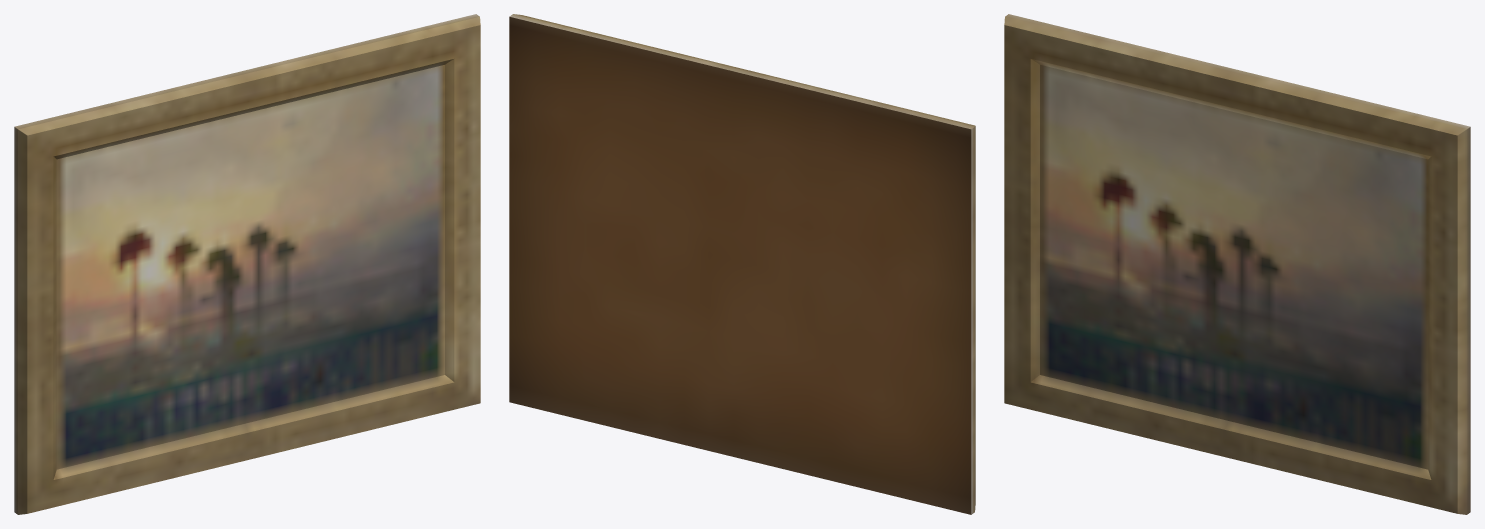
The model's file is Painting_Large_B.FBX.
3 views of the same model, side by side, from view 1: azimuth 30°, elevation 25°; view 2: azimuth 150°, elevation 25°; view 3: azimuth 330°, elevation 25° (orthographic).
Parts seen in each view (by area): view 1: Painting_Large_B; view 2: Painting_Large_B; view 3: Painting_Large_B.
Boxes of the visible parts, x1,y1,x2,y2 form: Painting_Large_B: (14,14,480,514); Painting_Large_B: (509,14,975,514); Painting_Large_B: (1004,14,1470,514).
Bounding box in the file's own units: 70.57 × 56.29 × 2.29.
